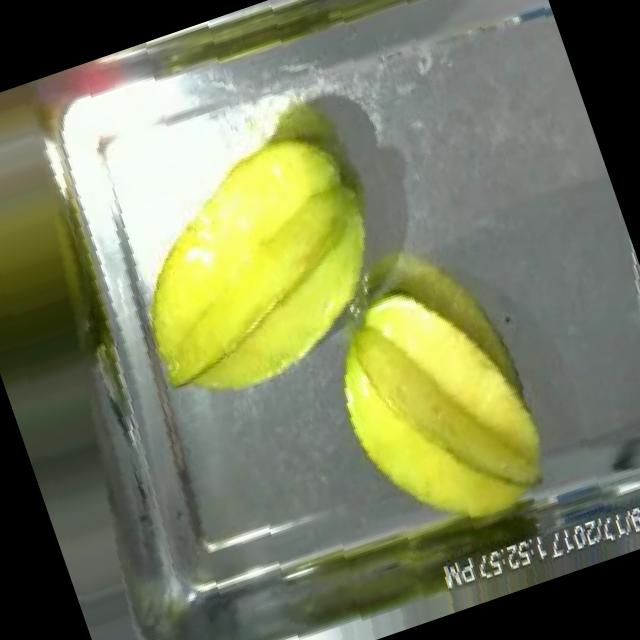fruit: (88, 105, 424, 427), (298, 241, 574, 560), (0, 69, 153, 379)
